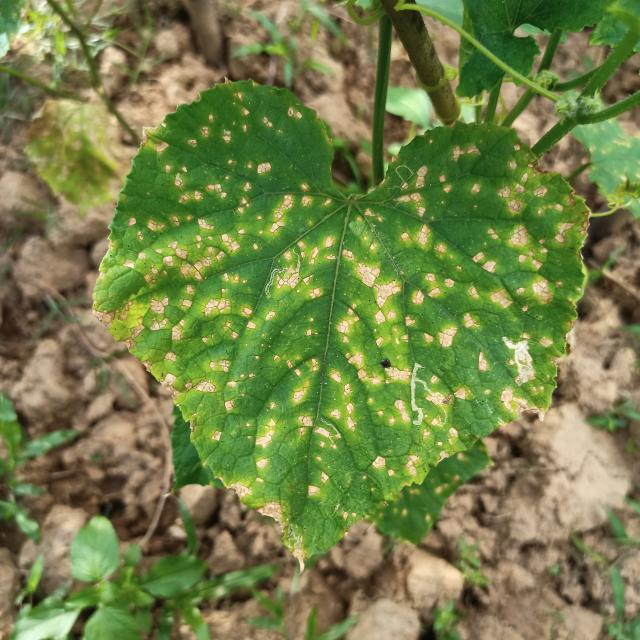disease_cucumber: (130, 126, 581, 517)
